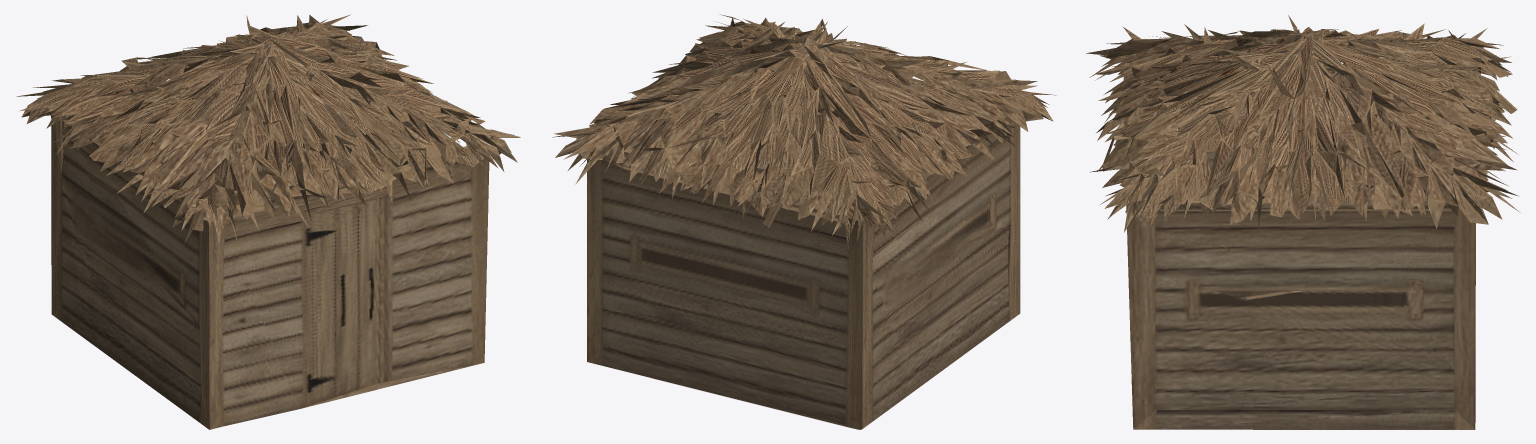
The model's file is hide.glb.
3 renders of one model, left to right at view 1: azimuth 30°, elevation 25°; view 2: azimuth 150°, elevation 25°; view 3: azimuth 270°, elevation 25°, orthographic. The views are drawn at different scales.
Size of the model in its own units: 1.84 by 1.53 by 1.83.
Materials: 1 (1 with a texture image).
